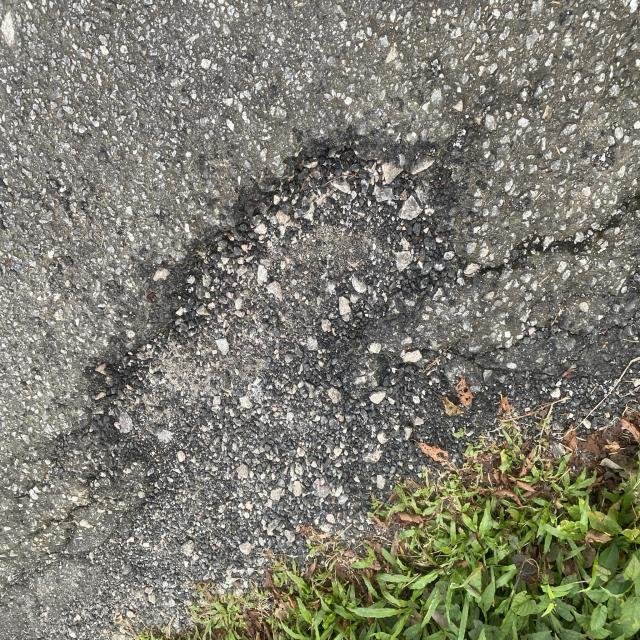Pothole: (88, 152, 518, 398)
